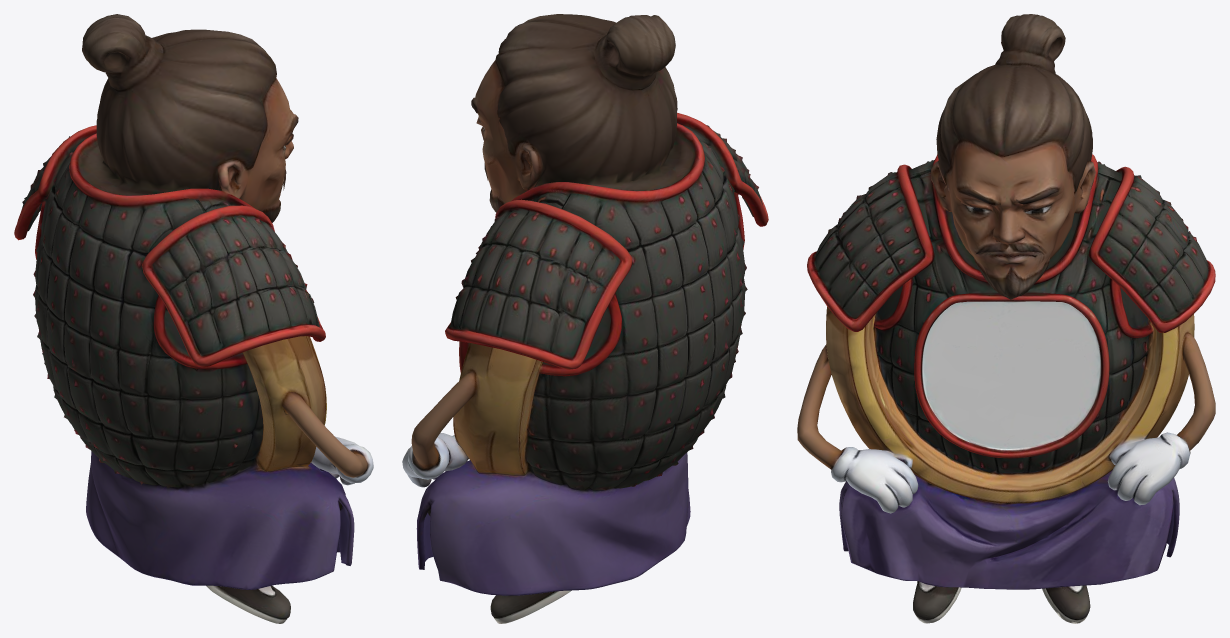
Rendered from c_qin.glb.
The picture shows the model from 3 angles, left to right: view 1: azimuth 30°, elevation 25°; view 2: azimuth 150°, elevation 25°; view 3: azimuth 270°, elevation 25°; orthographic projection. The views are drawn at different scales.
Visible parts, largest first — view 1: tripo_node_de63b56b-7ce1-4a6c-9f3a-dd186a1d8dc6; view 2: tripo_node_de63b56b-7ce1-4a6c-9f3a-dd186a1d8dc6; view 3: tripo_node_de63b56b-7ce1-4a6c-9f3a-dd186a1d8dc6.
Part boxes in pixels (bbox=[...]): tripo_node_de63b56b-7ce1-4a6c-9f3a-dd186a1d8dc6: bbox=[14, 14, 373, 623]; tripo_node_de63b56b-7ce1-4a6c-9f3a-dd186a1d8dc6: bbox=[402, 14, 768, 623]; tripo_node_de63b56b-7ce1-4a6c-9f3a-dd186a1d8dc6: bbox=[797, 14, 1215, 623].
Bounding box in the file's own units: 0.4123 × 0.9801 × 0.6688.
1 material, 1 textured.
